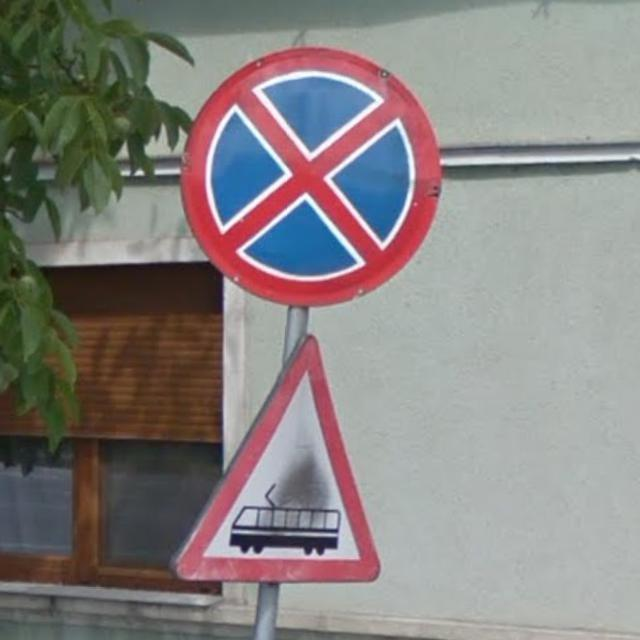forb_waiting: (180, 48, 441, 306)
